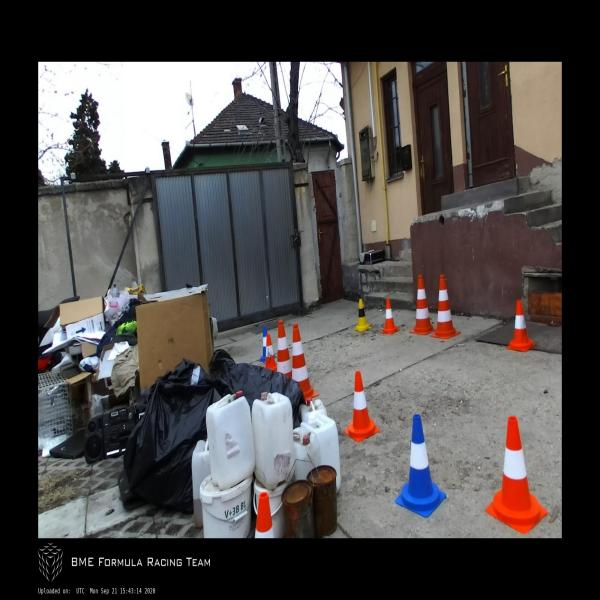blue_cone: (395, 414, 448, 518), (260, 327, 276, 362)
large_orange_cone: (291, 323, 319, 401), (430, 273, 460, 339), (409, 274, 436, 334), (276, 320, 292, 380)
orange_cone: (486, 416, 548, 534), (344, 371, 380, 441), (506, 300, 536, 351), (254, 490, 274, 538), (381, 298, 399, 334), (265, 334, 277, 372)
yellow_cone: (354, 298, 371, 332)
